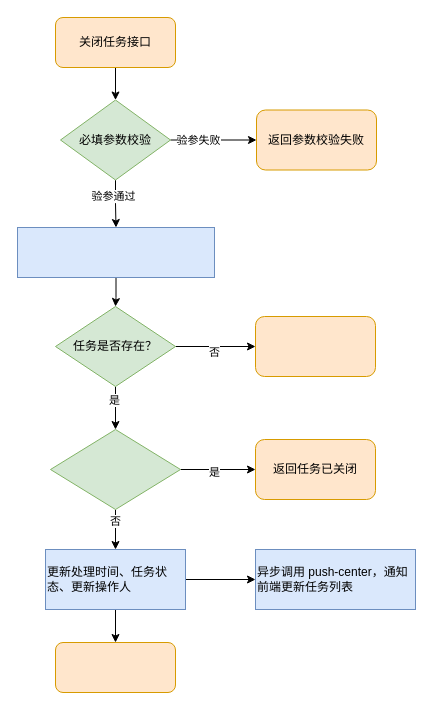
The diagram is 433 pixels wide and 710 high, and some of its shapes have lost their labels. The shapes that lost their labels are listed below. From the top down, each one's box as (x1, y1, x2, y2) in pixels, then its label:
(16, 226, 214, 278): 查询任务详情scene_code+business_data_code
(254, 316, 376, 376): 返回任务不存在
(50, 428, 180, 510): 任务是否已处理？
(54, 642, 176, 692): 返回关闭成功
